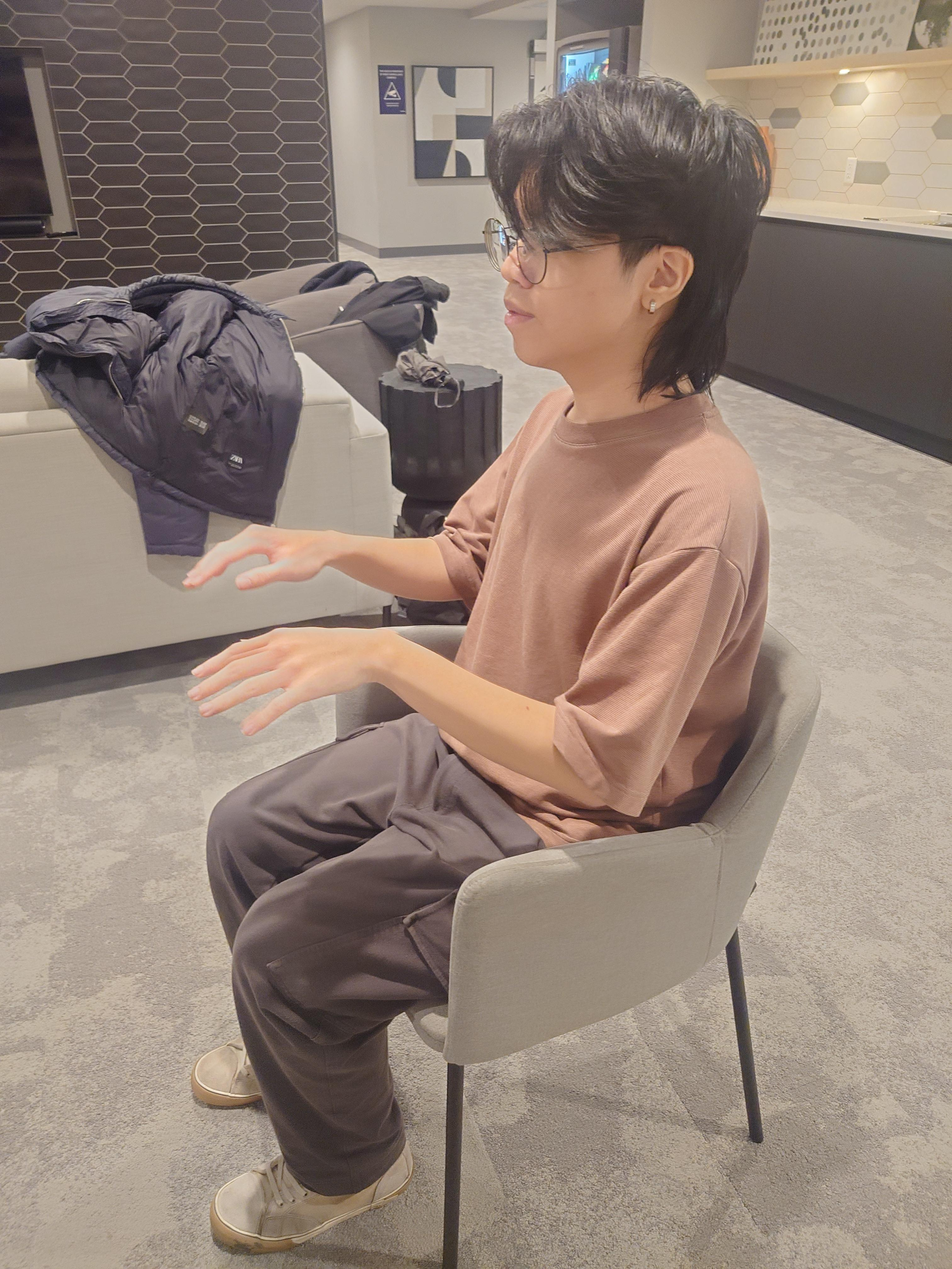GoodPosture: (181, 73, 771, 1252)
